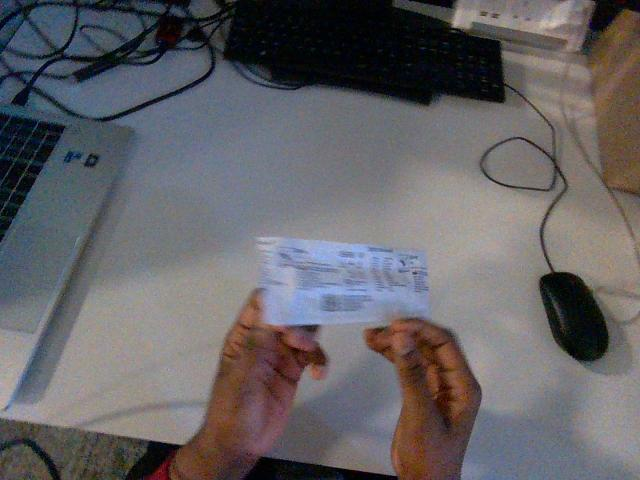syringe: (257, 238, 428, 326)
